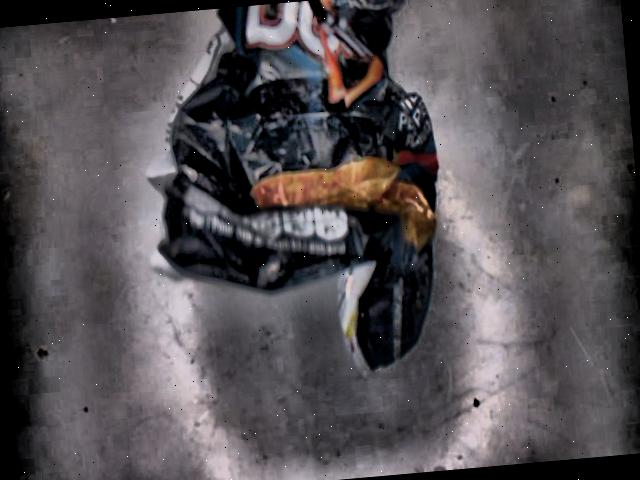Plastic: (147, 0, 442, 370)
